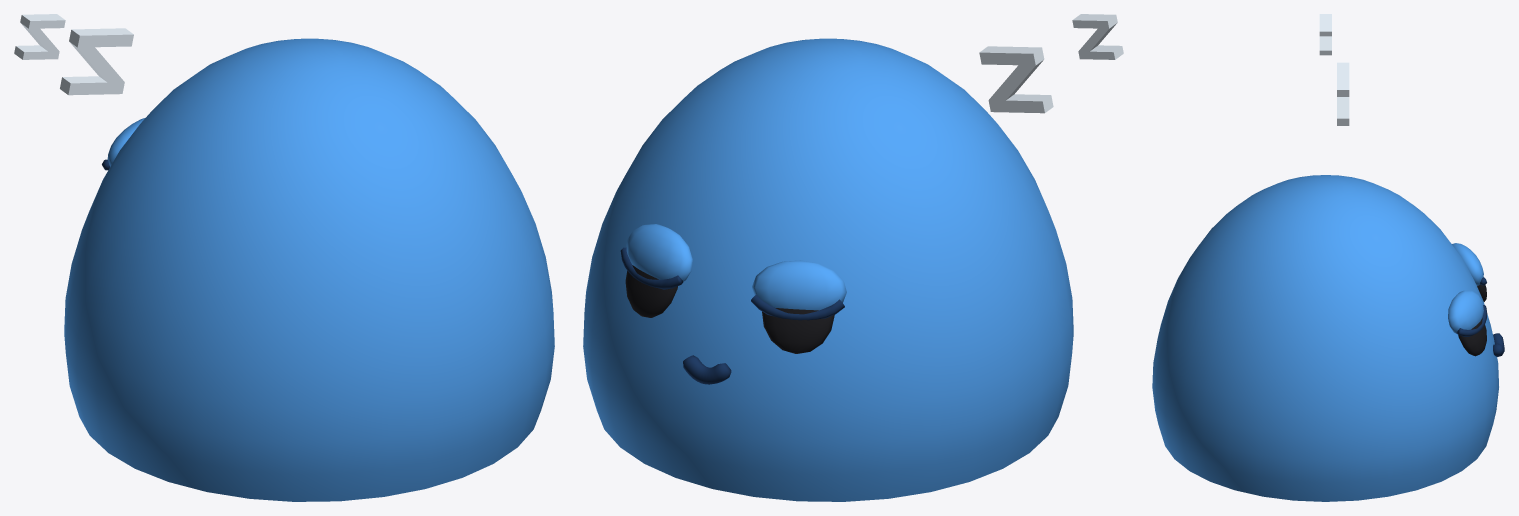
Rendered from BlueBlob.glb.
3 renders of one model, left to right at view 1: azimuth 30°, elevation 25°; view 2: azimuth 150°, elevation 25°; view 3: azimuth 270°, elevation 25°, orthographic. The views are drawn at different scales.
Visible parts, largest first — view 1: Body, Zzz; view 2: Body, Eyelids, Zzz, Eyes, Lashes, Mouth; view 3: Body, Eyelids, Zzz, Eyes.
Part boxes in pixels (x1=…): Body: x1=64, y1=38, x2=554, y2=501; Zzz: x1=14, y1=14, x2=133, y2=95; Body: x1=583, y1=38, x2=1073, y2=501; Eyelids: x1=626, y1=224, x2=846, y2=310; Zzz: x1=979, y1=14, x2=1123, y2=113; Eyes: x1=625, y1=265, x2=834, y2=353; Lashes: x1=620, y1=247, x2=844, y2=320; Mouth: x1=683, y1=355, x2=731, y2=384; Body: x1=1152, y1=175, x2=1498, y2=501; Eyelids: x1=1448, y1=243, x2=1483, y2=334; Zzz: x1=1319, y1=14, x2=1349, y2=125; Eyes: x1=1458, y1=284, x2=1486, y2=356.
Bounding box in the file's own units: 3.55 × 3.06 × 3.05.
